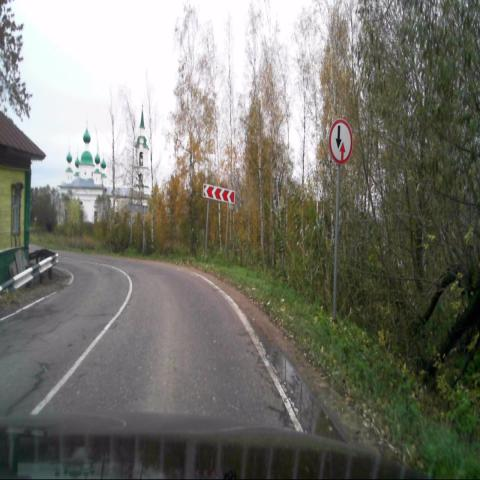2_6: (329, 119, 352, 164)
